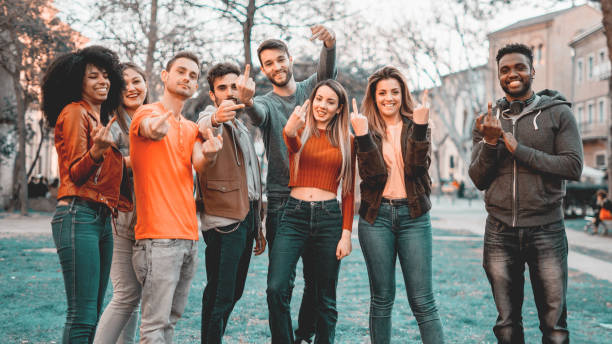insulting_gesture: (475, 101, 502, 142), (283, 97, 310, 135), (90, 115, 116, 152), (143, 110, 172, 142), (235, 63, 256, 99), (214, 99, 245, 123), (201, 127, 224, 159), (347, 98, 369, 130), (413, 87, 430, 122), (308, 23, 334, 43)
